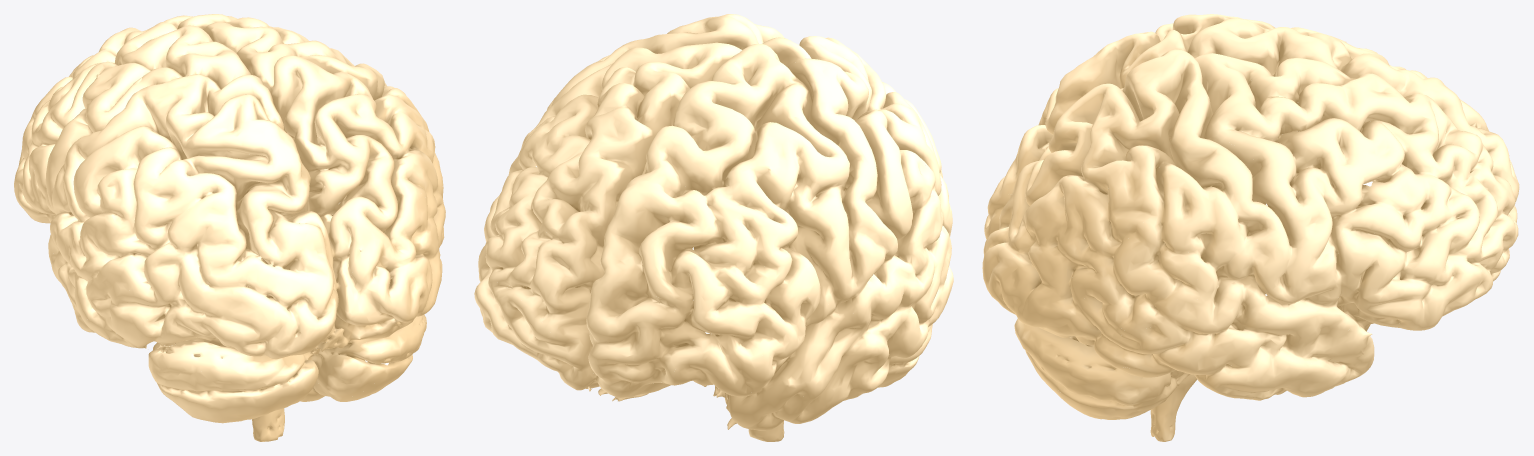
The model's file is brain.glb.
3 views of the same model, side by side, from view 1: azimuth 30°, elevation 25°; view 2: azimuth 150°, elevation 25°; view 3: azimuth 270°, elevation 25° (orthographic). The views are drawn at different scales.
Visible parts, largest first — view 1: piece_02, piece_48, piece_37, piece_67, piece_15, piece_13, piece_01, piece_70, piece_22, piece_85, piece_44, piece_47 (+24 smaller); view 2: piece_07, piece_31, piece_49, piece_10, piece_40, piece_52, piece_06, piece_09, piece_47, piece_02, piece_14, piece_32 (+16 smaller); view 3: piece_26, piece_39, piece_27, piece_54, piece_08, piece_78, piece_16, piece_35, piece_43, piece_69, piece_05, piece_38 (+26 smaller).
Part boxes in pixels (x1,y1,x2,y2): piece_02: (74,126,217,253); piece_48: (252,211,371,332); piece_37: (154,174,268,301); piece_67: (69,180,150,341); piece_15: (197,276,334,359); piece_13: (212,119,342,238); piece_01: (334,230,430,338); piece_70: (277,55,353,196); piece_22: (113,252,215,349); piece_85: (195,346,311,421); piece_44: (166,83,271,160); piece_47: (68,74,204,158); piece_07: (726,136,851,305); piece_31: (600,161,743,297); piece_49: (684,248,812,363); piece_10: (586,271,697,396); piece_40: (645,82,807,195); piece_52: (511,206,605,340); piece_06: (544,108,653,230); piece_09: (815,297,922,405); piece_47: (791,58,877,213); piece_02: (855,84,941,224); piece_14: (703,44,824,153); piece_32: (832,202,917,314); piece_26: (1227,118,1403,238); piece_39: (1360,144,1497,267); piece_27: (1156,155,1264,279); piece_54: (1244,159,1346,298); piece_08: (1333,230,1445,324); piece_78: (1110,221,1211,330); piece_16: (1048,175,1130,315); piece_35: (1243,58,1363,142); piece_43: (1228,285,1351,366); piece_69: (1010,190,1083,322); piece_05: (1121,314,1249,385); piece_38: (1060,83,1176,191).
Size of the model in its own units: 1.35 by 1.41 by 1.72.
